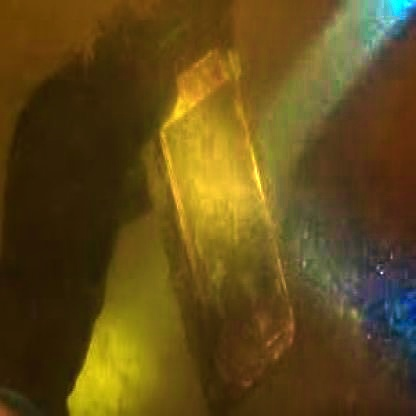cellphone: (153, 40, 296, 403)
